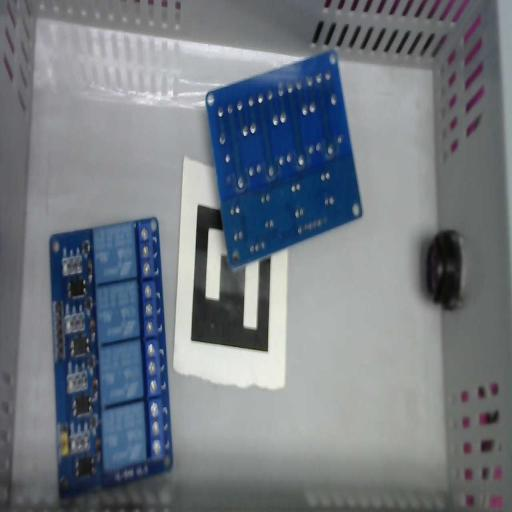QR: (190, 204, 271, 352)
relay_module: (49, 216, 173, 500), (205, 50, 363, 268)
